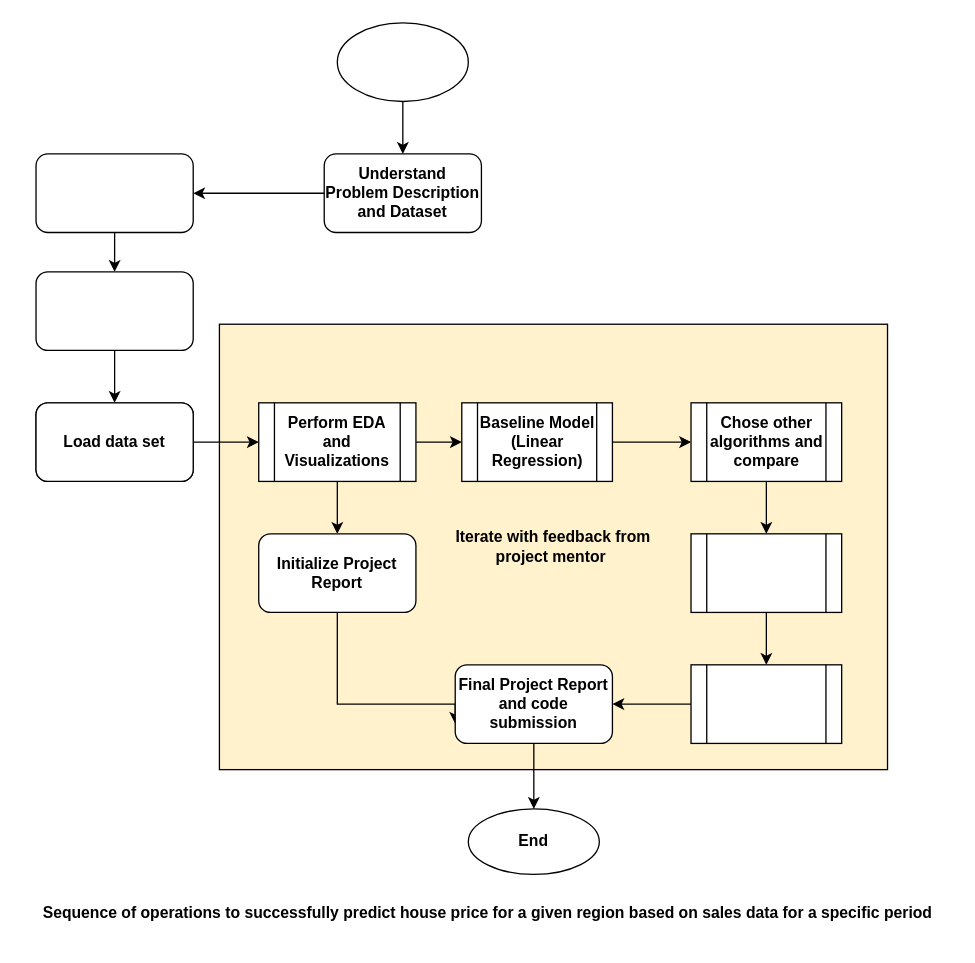
This 975x963 diagram has some shape labels left out. The centre of each missing label's shape, as x and y in pixels:
"Boost model performance and tuning" belongs at point (766, 572).
"Conclude with accuracy and error percentages" belongs at point (766, 703).
"Initialize Program environment" belongs at point (114, 193).
"Load all required libraries" belongs at point (114, 310).
"Start" belongs at point (402, 62).
